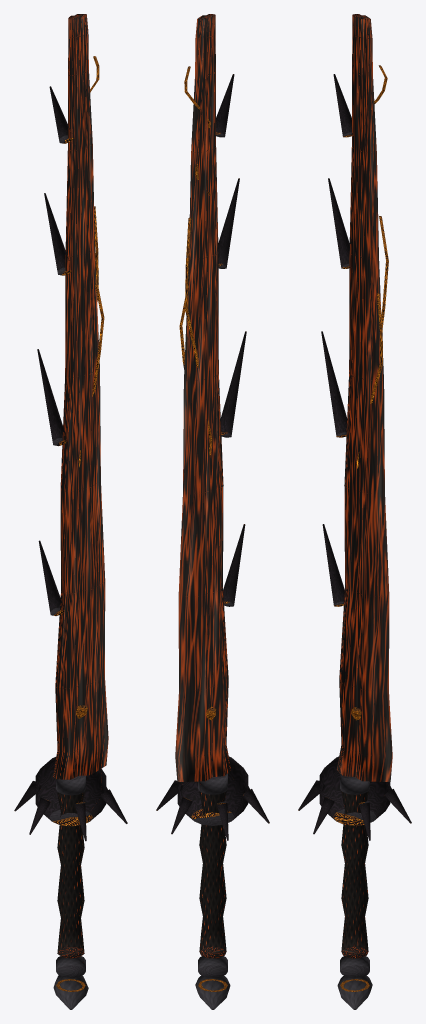
Rendered from sword_02_ash_thorn.glb.
3 views of the same model, side by side, from view 1: azimuth 30°, elevation 25°; view 2: azimuth 210°, elevation 25°; view 3: azimuth 330°, elevation 25° (orthographic).
Visible parts, largest first — view 1: Blade_CharredBlackwood, Grip_AshCharcoalWrap, Guard_CursedThornCrown, Thorns_BlackBriarSpikes, Ferrule_CursedAshIron, Pommel_EmberSeed, Inlay_EmberFissures; view 2: Blade_CharredBlackwood, Grip_AshCharcoalWrap, Guard_CursedThornCrown, Thorns_BlackBriarSpikes, Inlay_EmberFissures, Ferrule_CursedAshIron, Pommel_EmberSeed; view 3: Blade_CharredBlackwood, Grip_AshCharcoalWrap, Guard_CursedThornCrown, Thorns_BlackBriarSpikes, Ferrule_CursedAshIron, Inlay_EmberFissures, Pommel_EmberSeed.
Boxes of the visible parts, x1,y1,x2,y2 form: Blade_CharredBlackwood: [52, 14, 108, 779]; Grip_AshCharcoalWrap: [57, 792, 84, 958]; Guard_CursedThornCrown: [14, 757, 127, 841]; Thorns_BlackBriarSpikes: [37, 86, 72, 615]; Ferrule_CursedAshIron: [56, 775, 85, 977]; Pommel_EmberSeed: [53, 975, 88, 1009]; Inlay_EmberFissures: [78, 56, 104, 467]; Blade_CharredBlackwood: [175, 14, 231, 781]; Grip_AshCharcoalWrap: [199, 791, 226, 958]; Guard_CursedThornCrown: [156, 756, 269, 840]; Thorns_BlackBriarSpikes: [215, 74, 246, 606]; Inlay_EmberFissures: [179, 66, 212, 706]; Ferrule_CursedAshIron: [198, 773, 227, 977]; Pommel_EmberSeed: [195, 975, 230, 1009]; Blade_CharredBlackwood: [336, 14, 392, 781]; Grip_AshCharcoalWrap: [341, 791, 368, 958]; Guard_CursedThornCrown: [298, 756, 411, 840]; Thorns_BlackBriarSpikes: [321, 74, 352, 606]; Ferrule_CursedAshIron: [340, 773, 369, 977]; Inlay_EmberFissures: [356, 65, 388, 468]; Pommel_EmberSeed: [337, 975, 372, 1009].
Bounding box in the file's own units: 0.2702 × 2.6 × 0.2695.
Materials: 1 (1 with a texture image).
